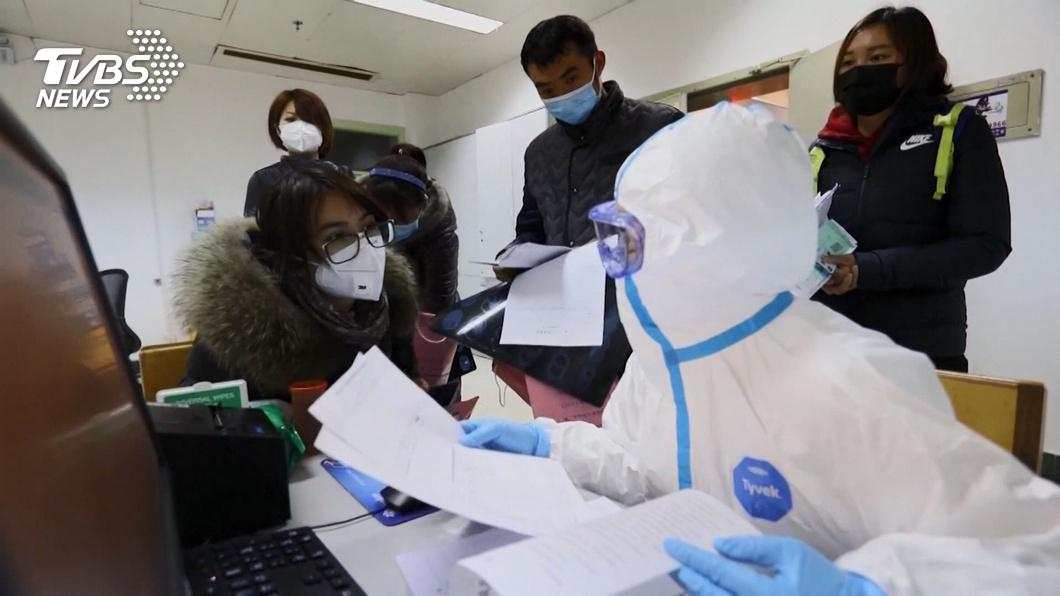mask: (313, 212, 389, 308), (831, 39, 904, 120), (536, 59, 597, 127), (272, 110, 324, 157)
